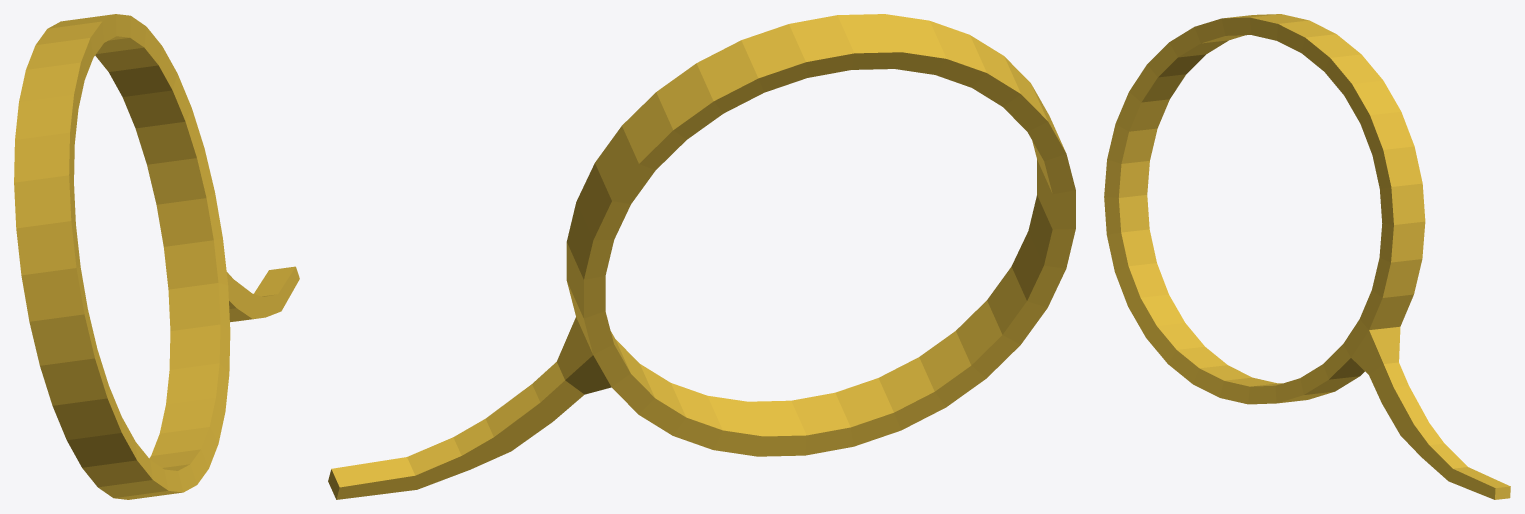
File: Monocule.fbx
3 views of the same model, side by side, from view 1: azimuth 30°, elevation 25°; view 2: azimuth 150°, elevation 25°; view 3: azimuth 270°, elevation 25° (orthographic). The views are drawn at different scales.
Parts seen in each view (by area): view 1: Cylinder; view 2: Cylinder; view 3: Cylinder.
Part boxes in pixels (x1=…): Cylinder: x1=14, y1=14, x2=299, y2=499; Cylinder: x1=328, y1=14, x2=1075, y2=499; Cylinder: x1=1104, y1=14, x2=1510, y2=499.
Bounding box in the file's own units: 10.78 × 9.26 × 9.69.
